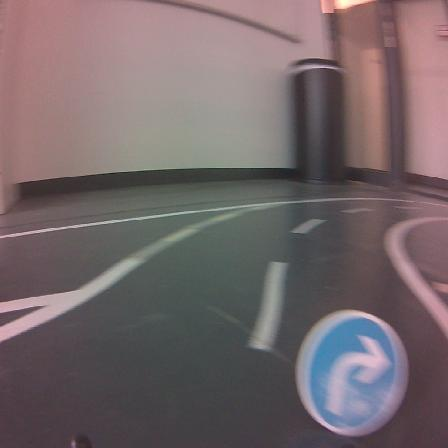RIGHT_TURN: (296, 310, 407, 435)
